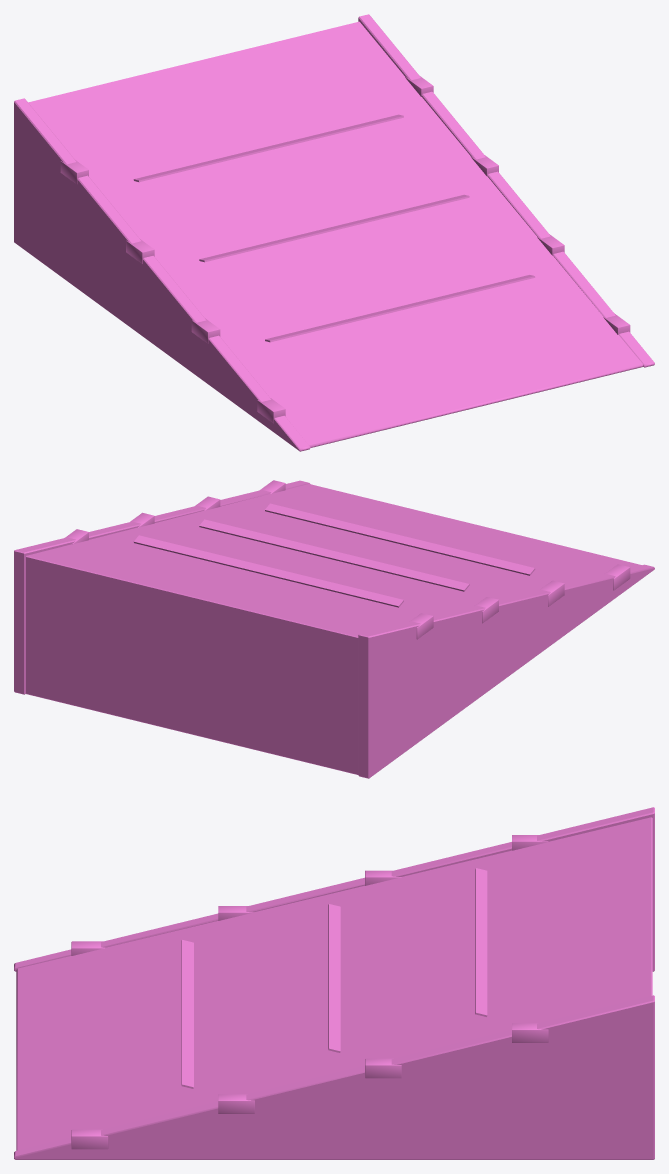
Rendered from Ramp.fbx.
The picture shows the model from 3 angles, top to bottom: view 1: azimuth 30°, elevation 25°; view 2: azimuth 150°, elevation 25°; view 3: azimuth 270°, elevation 25°; orthographic projection. The views are drawn at different scales.
Visible parts, largest first — view 1: Ramp; view 2: Ramp; view 3: Ramp.
Part boxes in pixels (bbox=[...]): Ramp: bbox=[14, 14, 654, 451]; Ramp: bbox=[14, 480, 654, 778]; Ramp: bbox=[14, 807, 654, 1159].
Size of the model in its own units: 18.86 by 7.19 by 26.2.
1 material, 1 textured.
